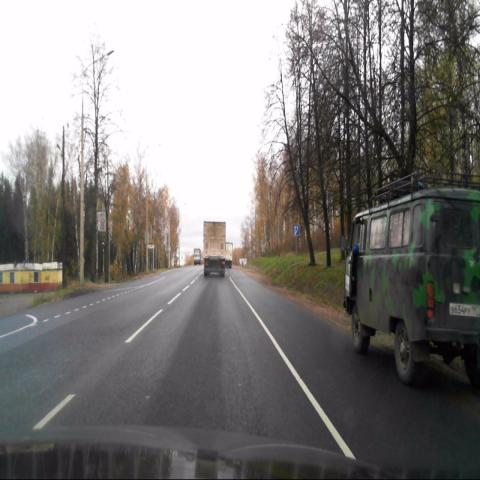5_15_3: (293, 224, 300, 236)
